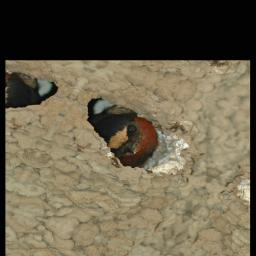Swallow: (71, 102, 171, 172)
